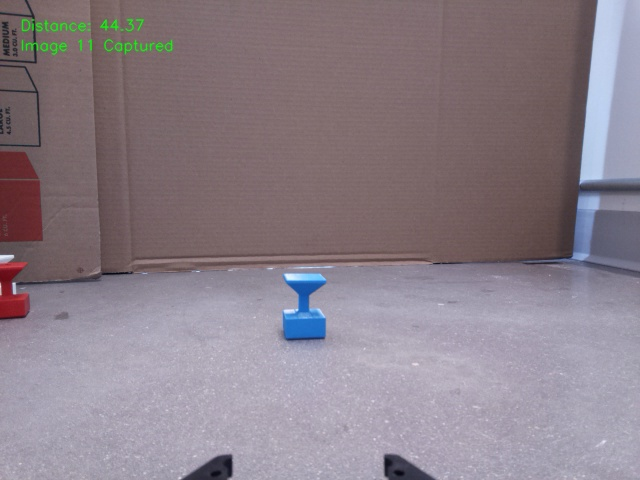block: (283, 272, 327, 340), (1, 262, 30, 319), (1, 254, 18, 305)
